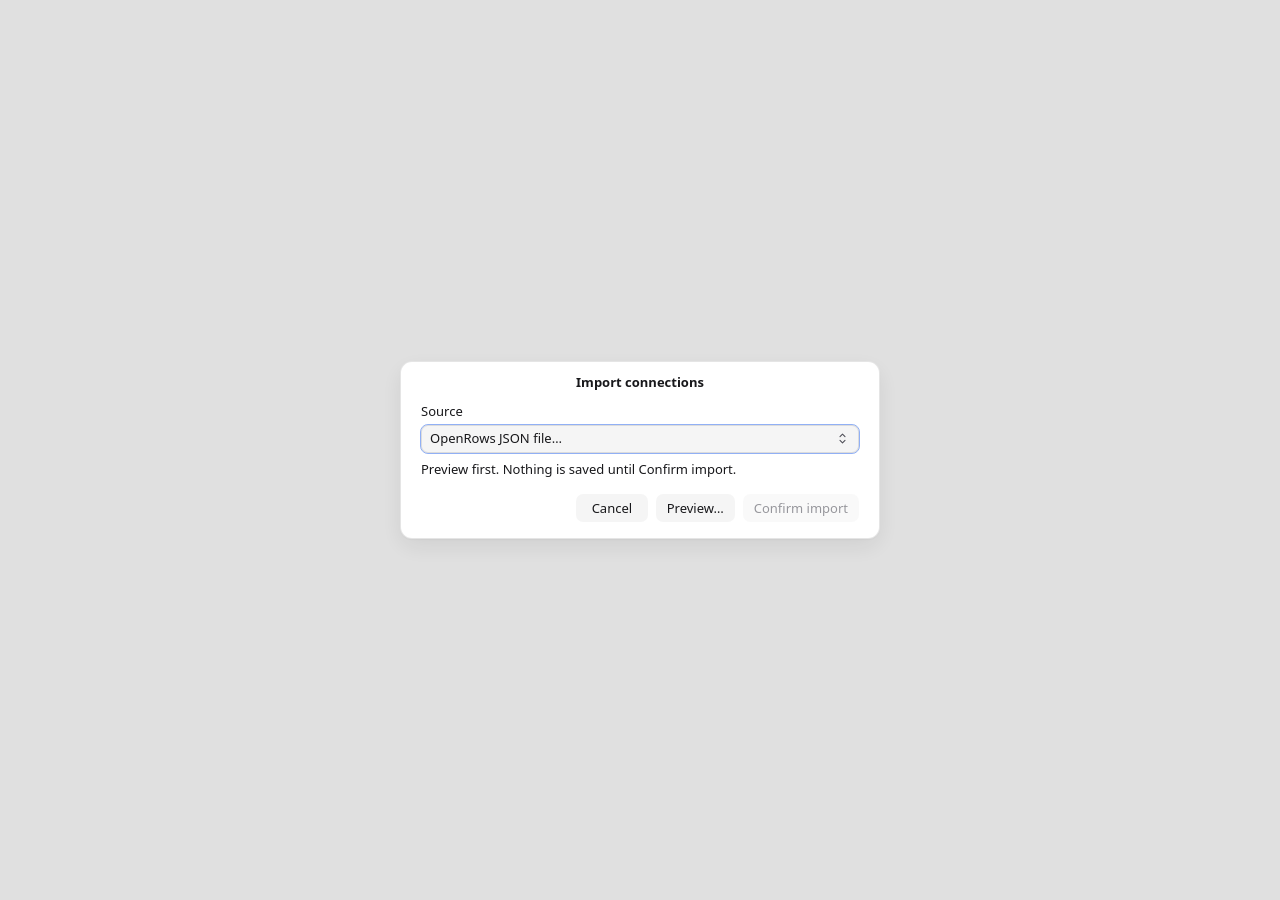
Test: cancel and unmount discard the preview without importing
This screenshot has width=1280, height=900.
Click the button "Preview…". click: (695, 508)
box: [656,494,735,522]
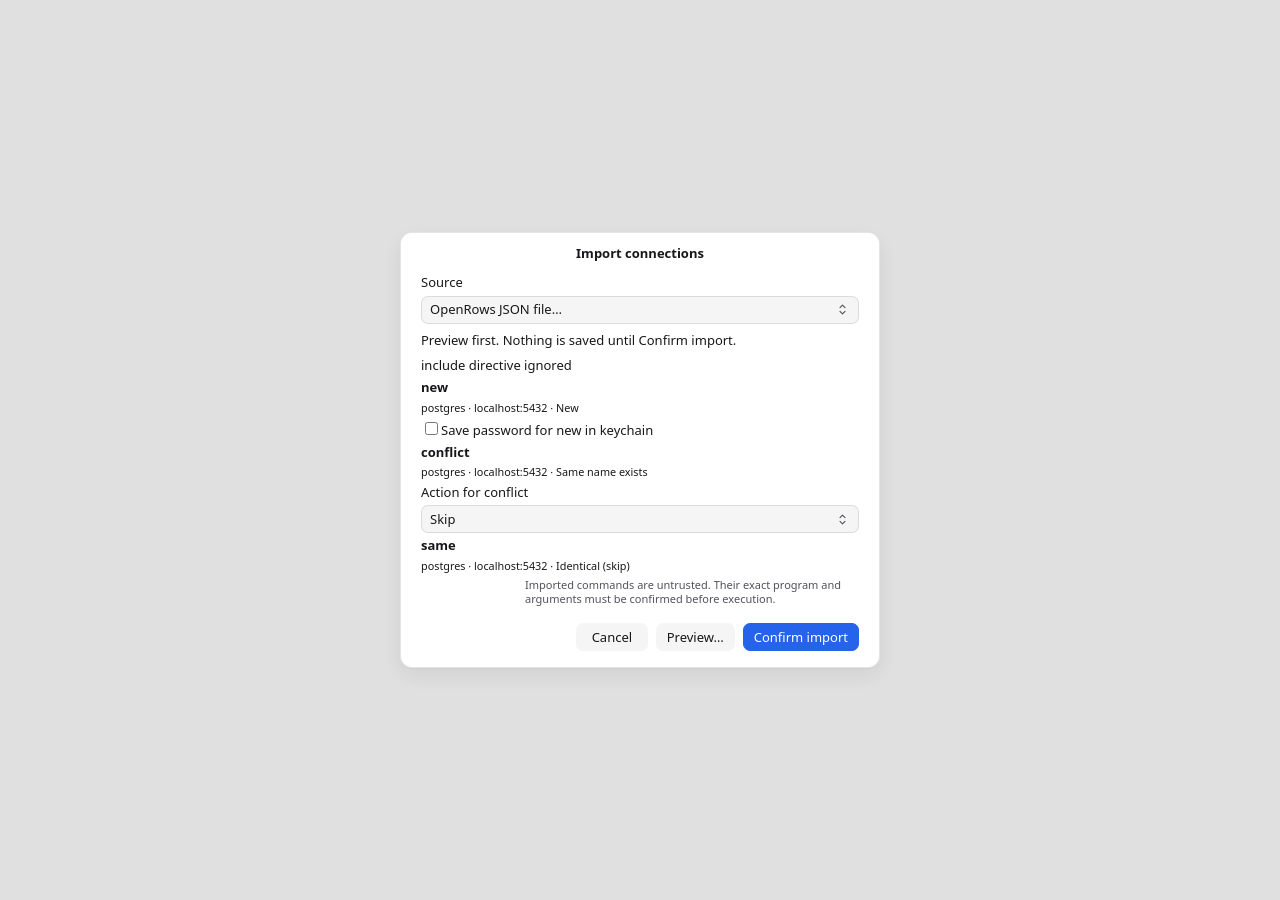
Expected: the text "include directive ignored" is shown, [421,356,572,374]
